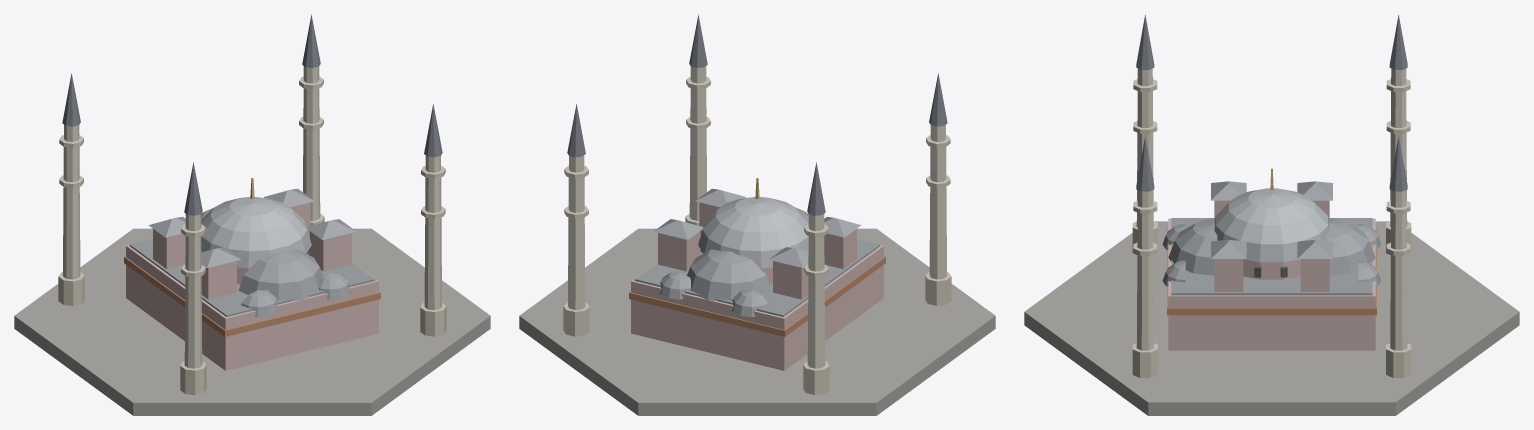
File: hagia-sophia.glb
The picture shows the model from 3 angles, left to right: view 1: azimuth 30°, elevation 25°; view 2: azimuth 150°, elevation 25°; view 3: azimuth 270°, elevation 25°; orthographic projection. The views are drawn at different scales.
Parts seen in each view (by area): view 1: LOD0; view 2: LOD0; view 3: LOD0.
Boxes of the visible parts, <box> form: LOD0: <box>14,14,490,415</box>; LOD0: <box>519,14,995,415</box>; LOD0: <box>1024,15,1519,415</box>.
Size of what is drawn, in the model's own units: 1.49 by 0.96 by 1.72.
